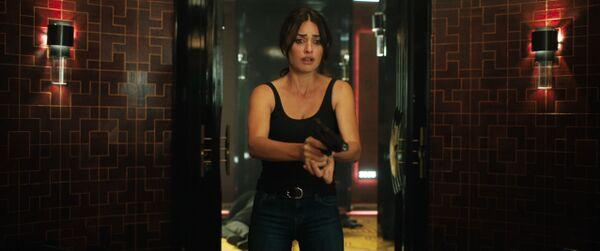Gun: (313, 136, 349, 156)
